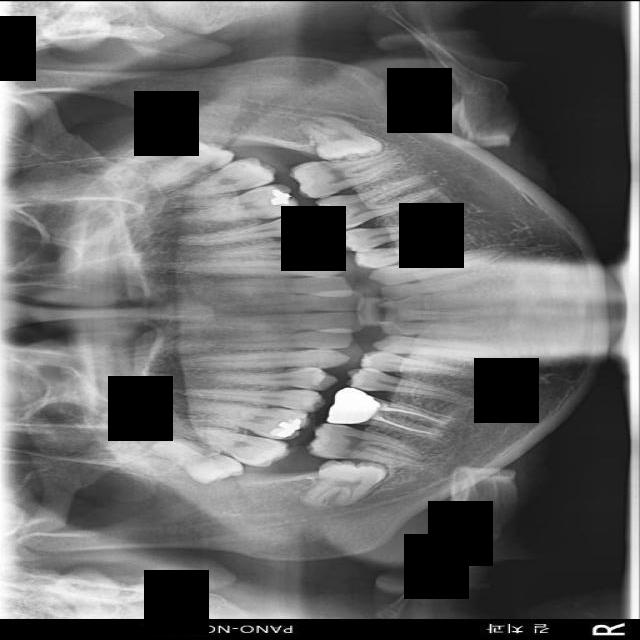3M ESPE Implant: (141, 429, 249, 494)
52: (250, 401, 313, 444), (242, 179, 298, 221), (311, 193, 365, 233), (326, 386, 381, 425)
73: (361, 396, 448, 439), (584, 20, 595, 28)
BioHorizons Implant: (166, 149, 279, 203)
BioLife Implant: (133, 126, 235, 201)
Biomet 3i Implant: (300, 108, 383, 167)
Blue Sky Bio Implant: (287, 147, 404, 201)
Caries: (155, 416, 290, 473)
Implant: (306, 417, 430, 470)
Keystone Dental Implant: (304, 459, 389, 505)
